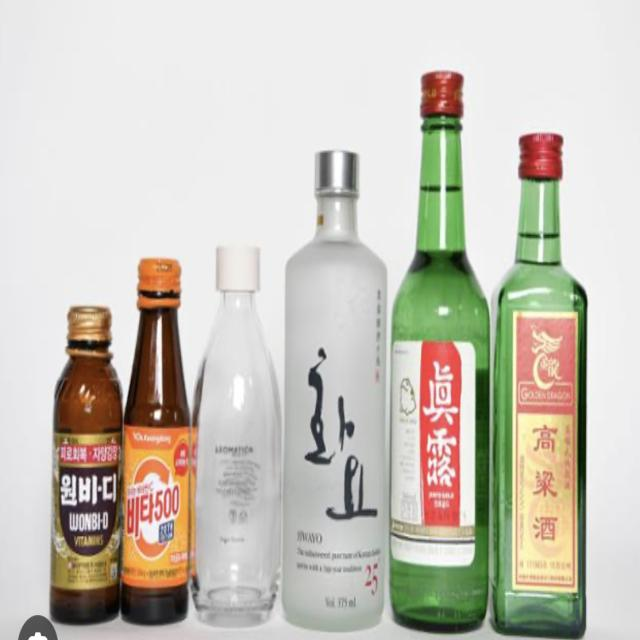recyclable: (386, 119, 489, 633), (488, 165, 599, 633), (278, 188, 389, 632), (194, 253, 278, 622), (50, 289, 126, 624), (122, 246, 190, 618)
